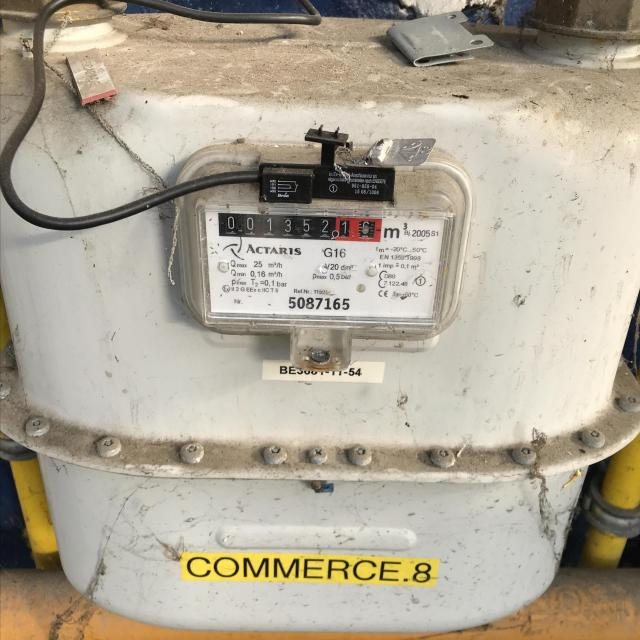gaz_meter: (205, 209, 437, 321)
indication: (220, 211, 384, 241)
